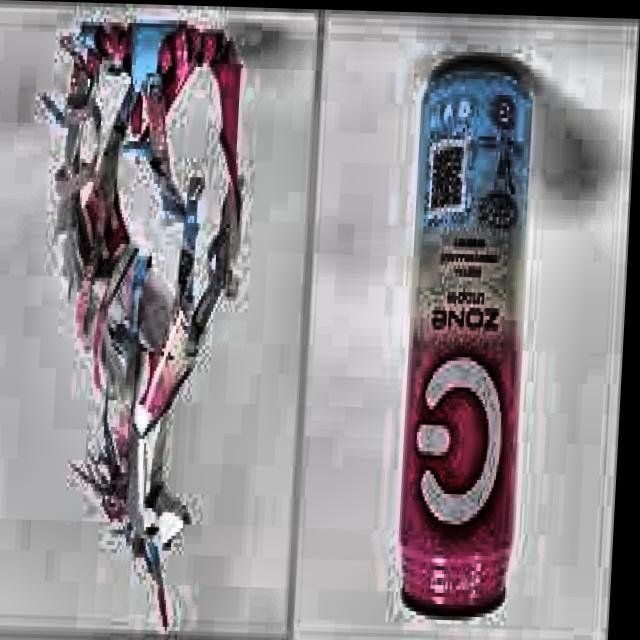can: (396, 47, 543, 627)
